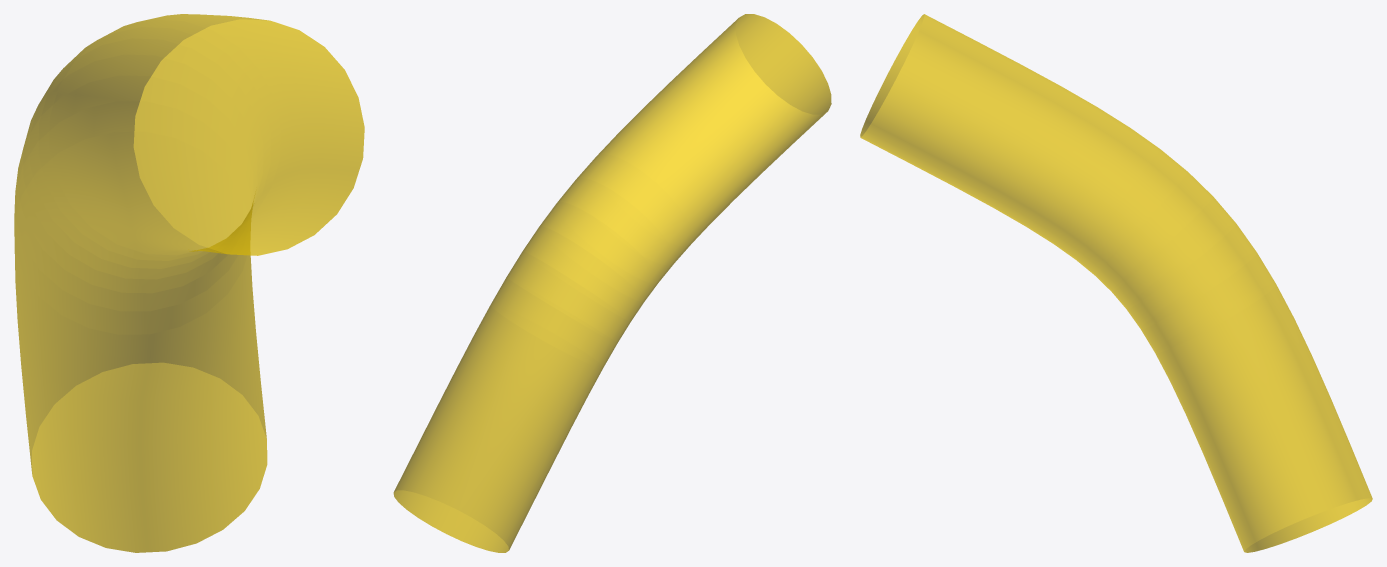
Rendered from Event_419990632_track_70.fbx.
3 views of the same model, side by side, from view 1: azimuth 30°, elevation 25°; view 2: azimuth 150°, elevation 25°; view 3: azimuth 270°, elevation 25° (orthographic). The views are drawn at different scales.
Parts seen in each view (by area): view 1: Model; view 2: Model; view 3: Model.
Part boxes in pixels (left/top/right/bottom): Model: left=14, top=14, right=364, bottom=552; Model: left=393, top=14, right=831, bottom=552; Model: left=860, top=14, right=1372, bottom=552.
Size of the model in its own units: 0.0879 by 0.1474 by 0.1472.
